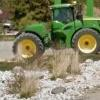Tractor: (10, 5, 100, 58)
